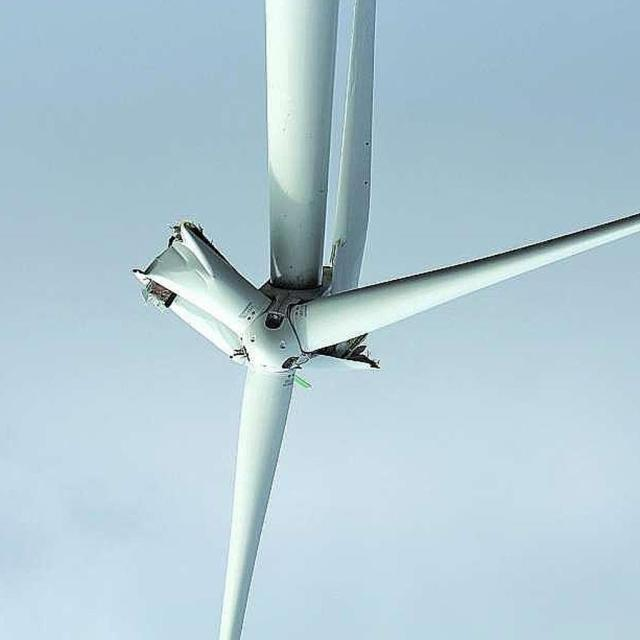crack: (128, 177, 410, 394)
